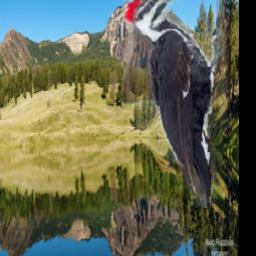Woodpecker: (123, 0, 231, 209)
